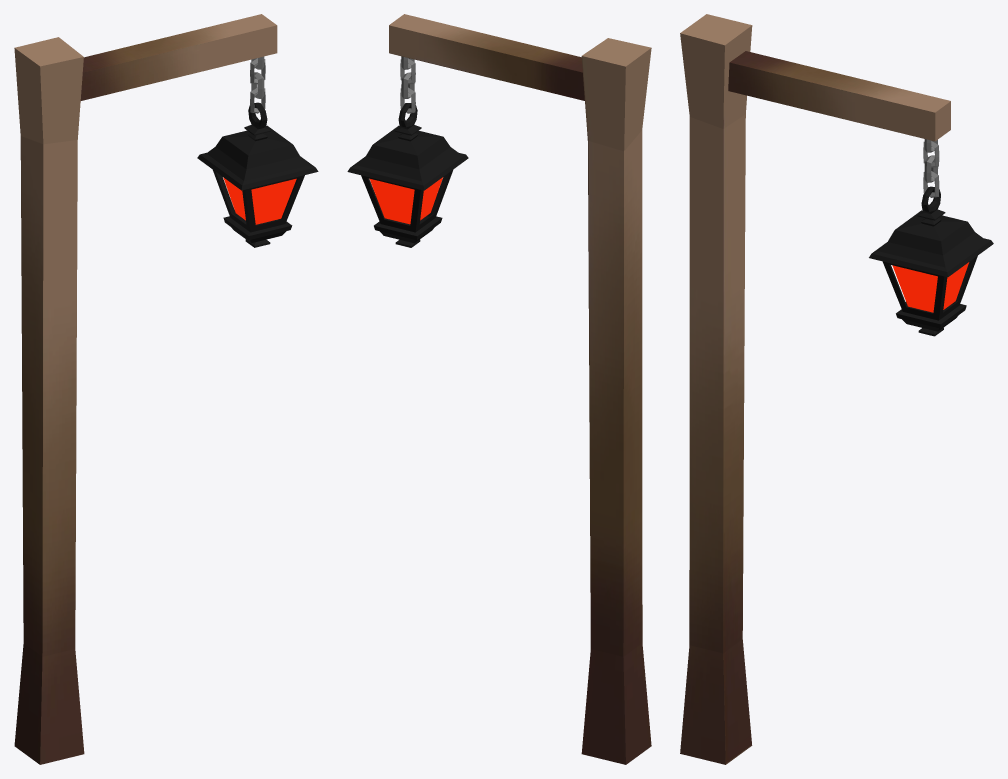
The model's file is lamppost.glb.
3 views of the same model, side by side, from view 1: azimuth 30°, elevation 25°; view 2: azimuth 150°, elevation 25°; view 3: azimuth 330°, elevation 25° (orthographic). The views are drawn at different scales.
Visible parts, largest first — view 1: lamppost; view 2: lamppost; view 3: lamppost.
Part boxes in pixels (box(x1,y1,x2,y2)): lamppost: box(14, 14, 318, 764); lamppost: box(347, 14, 651, 764); lamppost: box(680, 14, 993, 764).
Size of the model in its own units: 0.5763 by 1.43 by 0.1648.
Materials: 4 (1 with a texture image).
